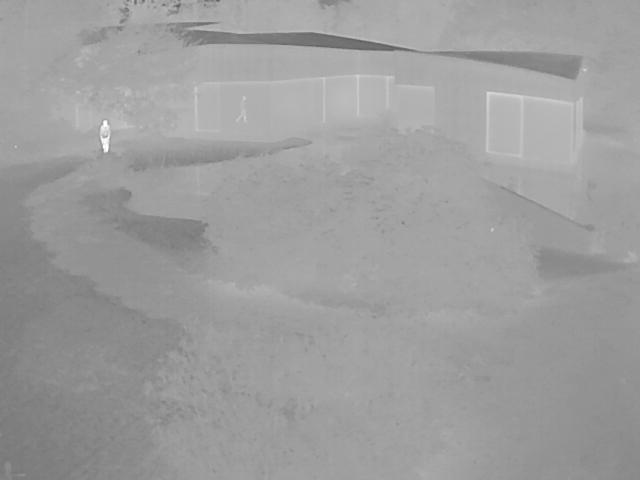person: (236, 95, 251, 124), (102, 119, 112, 153)
